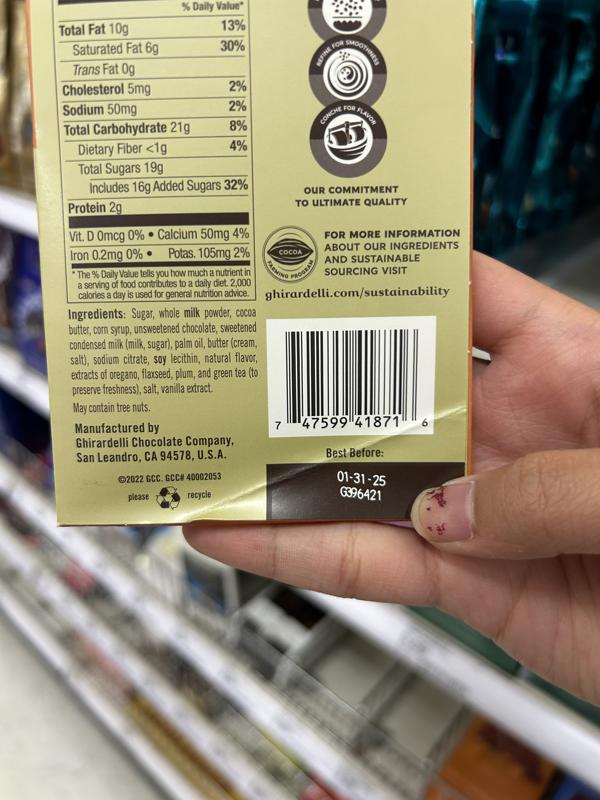ingredients: (65, 304, 261, 398)
